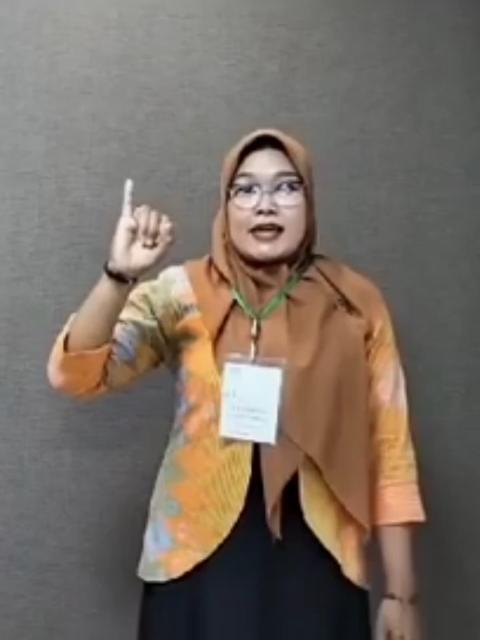I: (104, 180, 176, 270)
